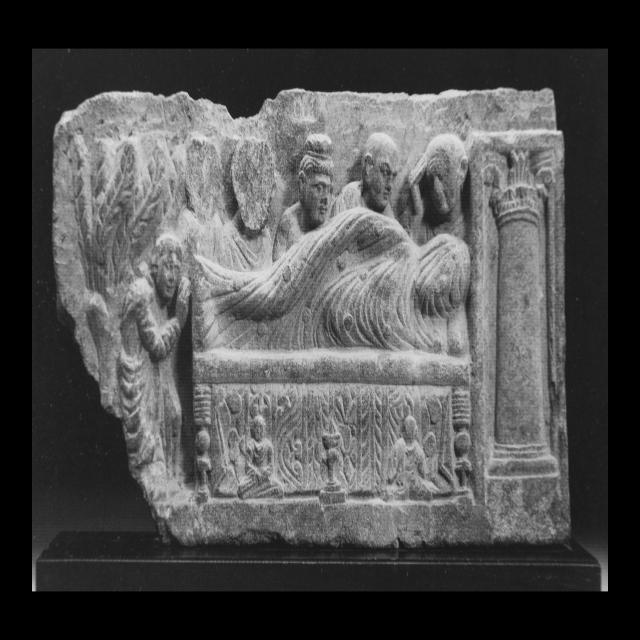buddha-sleeping: (192, 206, 476, 493)
